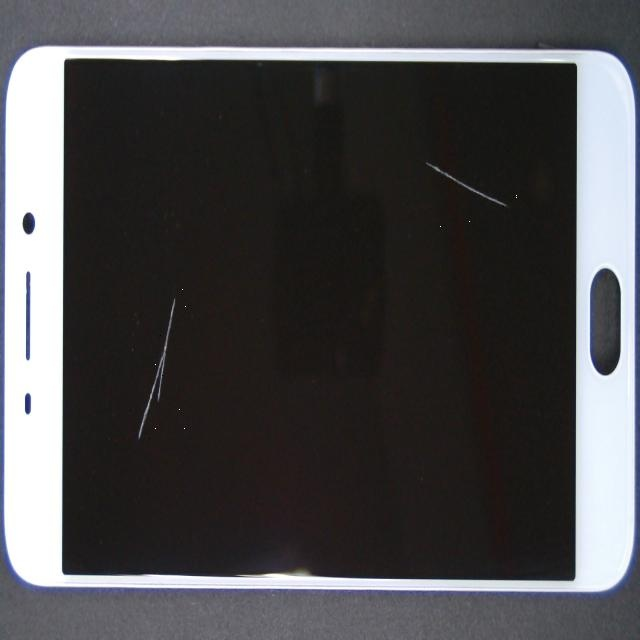scratch: (156, 60, 640, 289), (108, 68, 232, 501)
